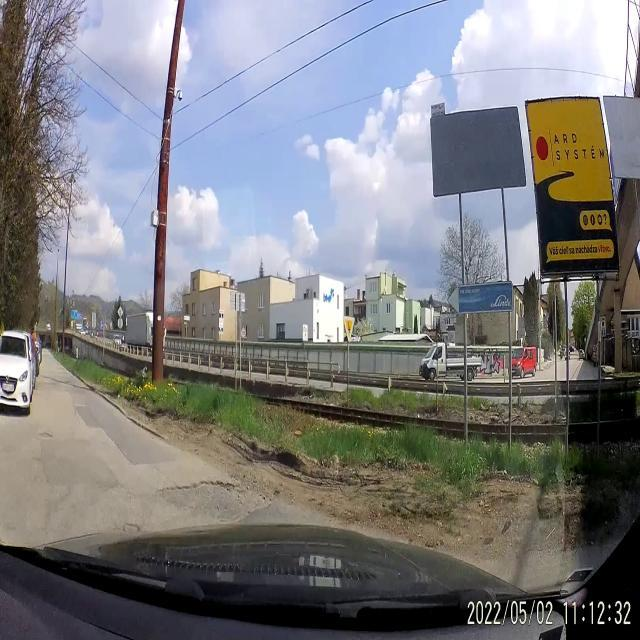Pothole: (157, 468, 249, 518), (121, 518, 142, 534), (37, 428, 54, 441), (30, 453, 44, 463)
